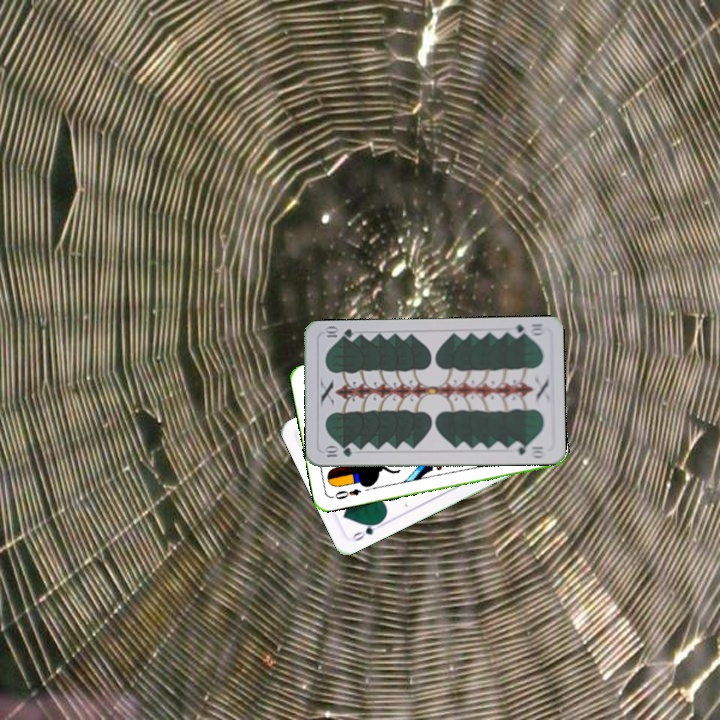EO: (328, 485, 363, 502)
G10: (507, 319, 547, 340), (321, 444, 354, 459)
GO: (348, 517, 386, 544)
